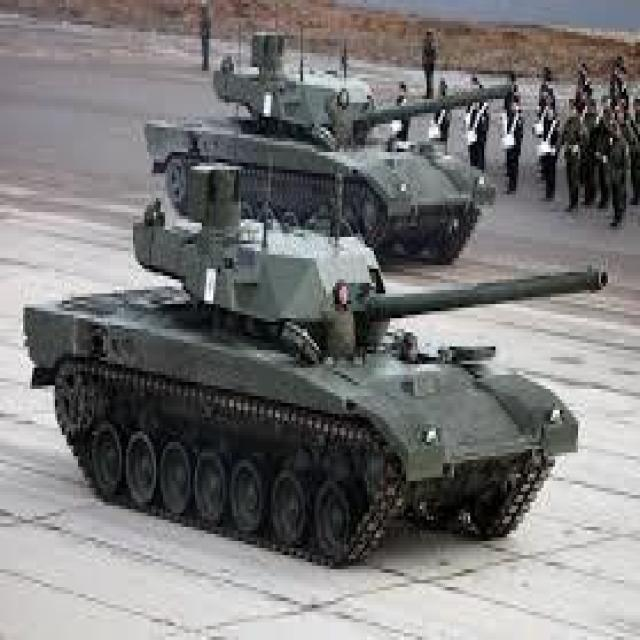MIL_MBT: (24, 223, 621, 562), (155, 34, 494, 214)
